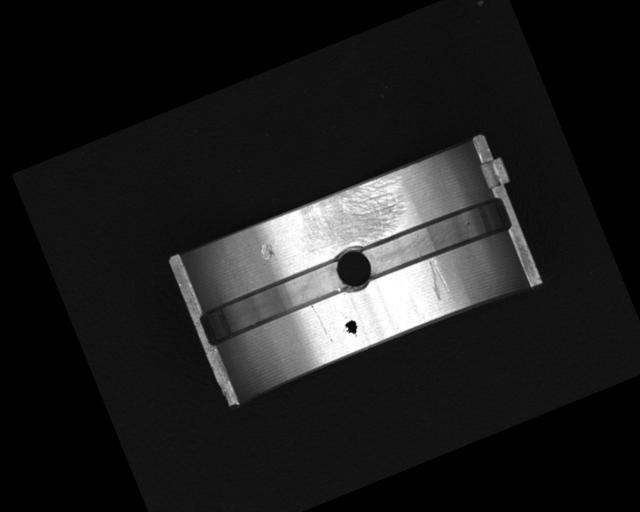blot: (341, 317, 362, 340)
bruise: (257, 240, 275, 260)
gap: (361, 192, 514, 282), (197, 258, 349, 347)
hole: (329, 242, 379, 298)
nick: (421, 257, 454, 303), (310, 302, 333, 343)
scratch: (288, 169, 419, 266)
